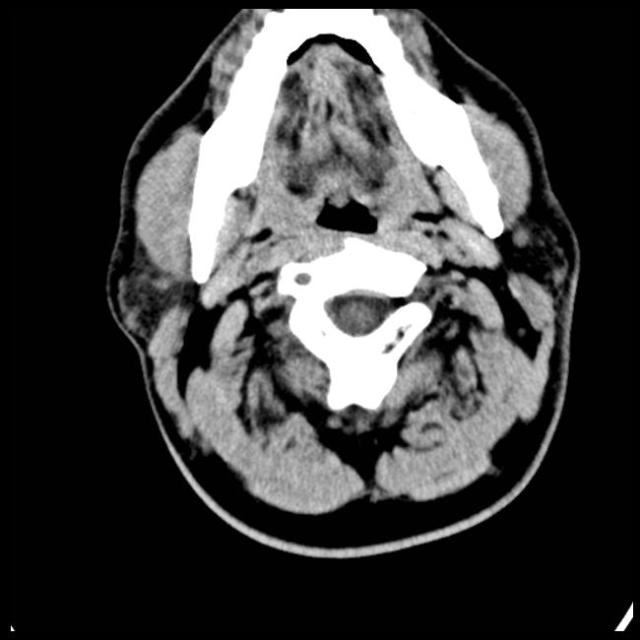lesion: (107, 8, 581, 540)
